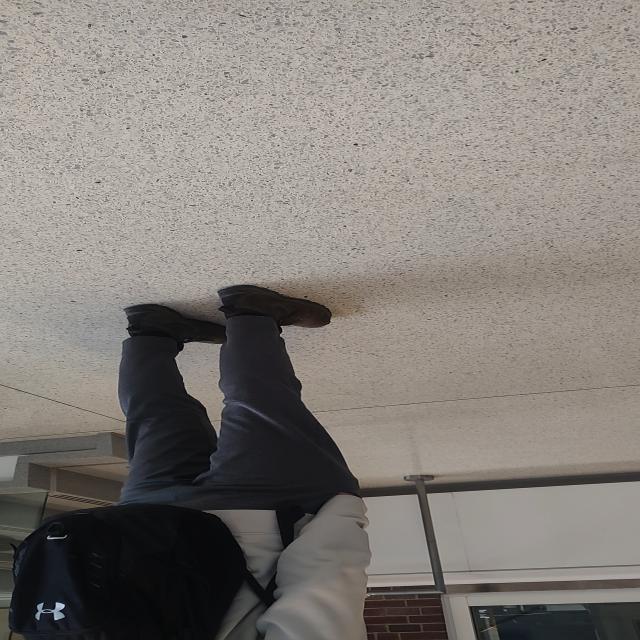Boots: (212, 279, 342, 332), (120, 299, 237, 352)
